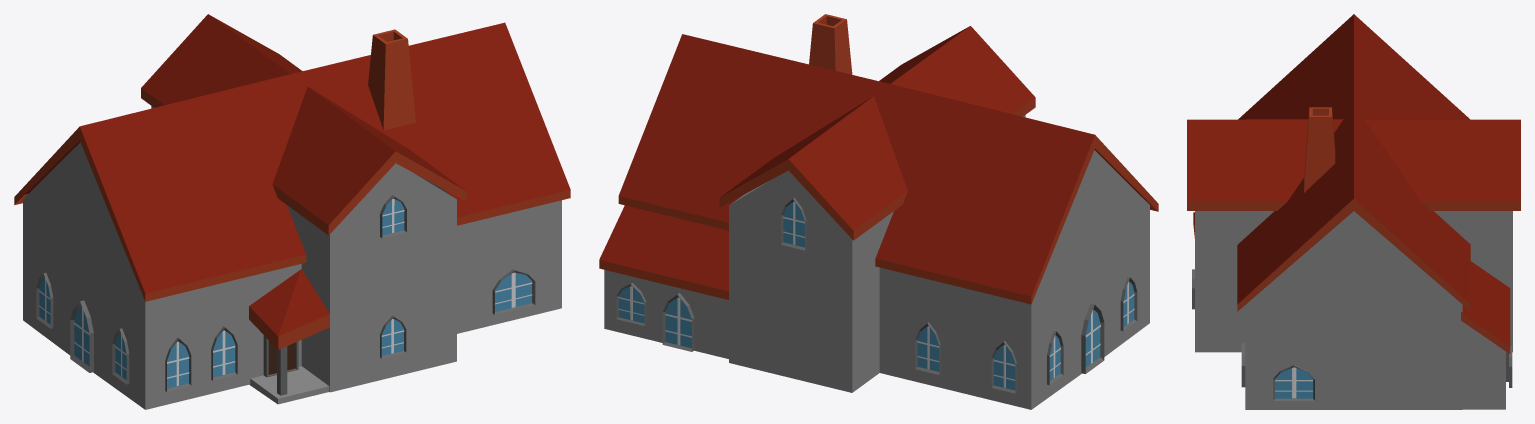
Rendered from House2.fbx.
The picture shows the model from 3 angles, left to right: view 1: azimuth 30°, elevation 25°; view 2: azimuth 150°, elevation 25°; view 3: azimuth 270°, elevation 25°; orthographic projection. The views are drawn at different scales.
Visible parts, largest first — view 1: Cube; view 2: Cube; view 3: Cube.
Boxes of the visible parts, bbox=[...] form: Cube: bbox=[14, 14, 570, 409]; Cube: bbox=[599, 14, 1158, 409]; Cube: bbox=[1187, 14, 1520, 409].
Bounding box in the file's own units: 1617 × 993 × 1236.
